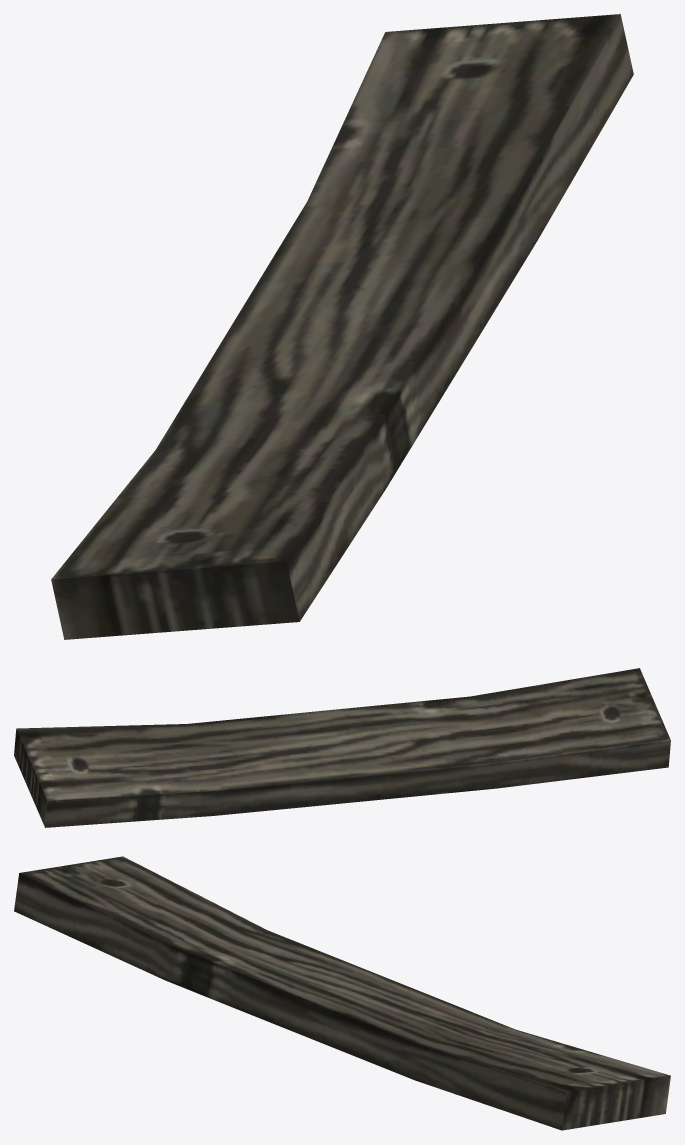
Rendered from ANIMATEDINSTANCES_BOARD_FALL2__BA.fbx.
3 views of the same model, one above another, from view 1: azimuth 30°, elevation 25°; view 2: azimuth 150°, elevation 25°; view 3: azimuth 270°, elevation 25° (orthographic). The views are drawn at different scales.
Parts seen in each view (by area): view 1: ANIMATEDINSTANCES_BOARD_FALL2__BA; view 2: ANIMATEDINSTANCES_BOARD_FALL2__BA; view 3: ANIMATEDINSTANCES_BOARD_FALL2__BA.
Boxes of the visible parts, x1,y1,x2,y2 form: ANIMATEDINSTANCES_BOARD_FALL2__BA: (51,14,633,639); ANIMATEDINSTANCES_BOARD_FALL2__BA: (14,668,670,827); ANIMATEDINSTANCES_BOARD_FALL2__BA: (14,856,670,1130).
Size of the model in its own units: 15485 by 2085 by 15480.
1 material, 1 textured.
